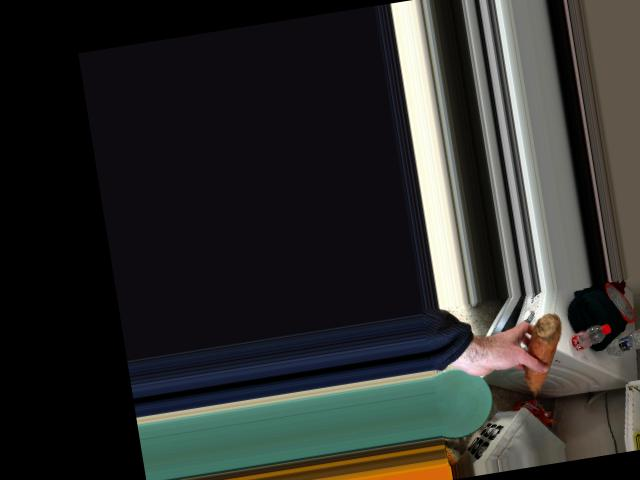sweet_potato: (510, 316, 573, 392)
